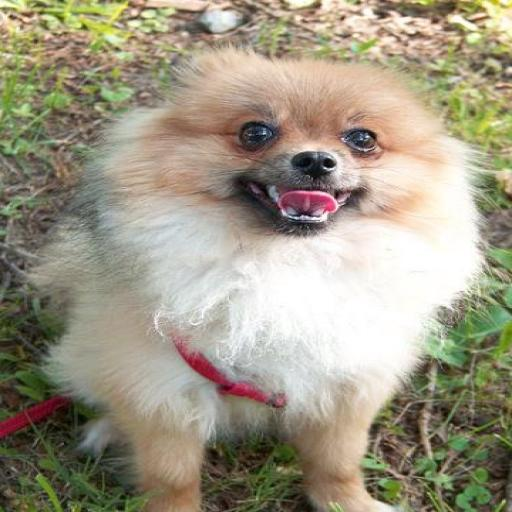dog_face: (190, 45, 433, 232)
